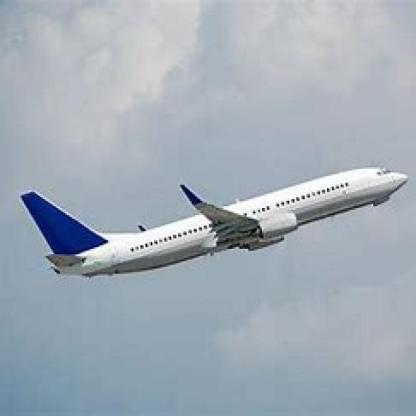plane: (15, 158, 410, 285)
